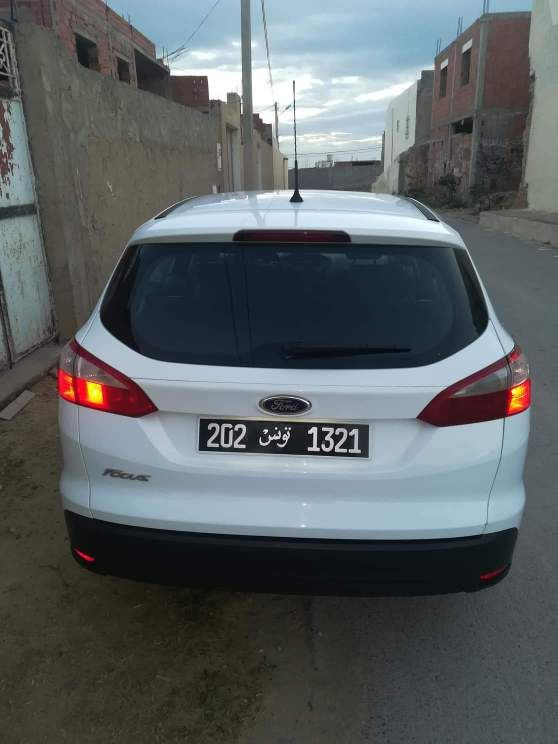LP: (195, 415, 376, 463)
